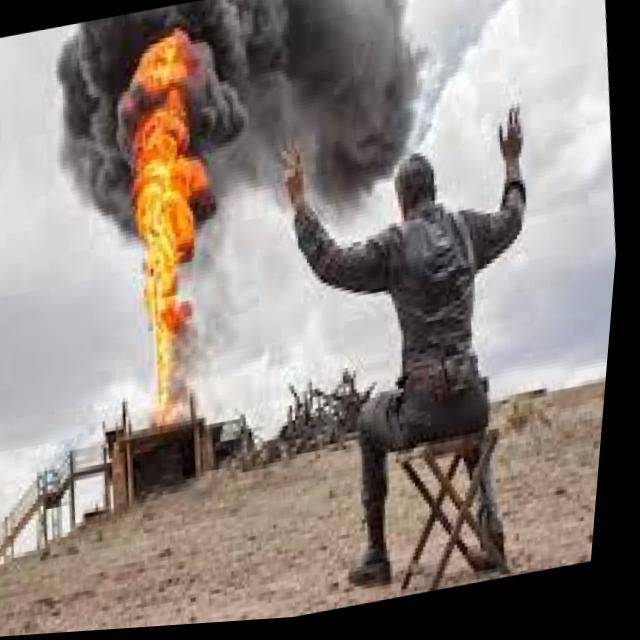Fire: (35, 0, 309, 443)
